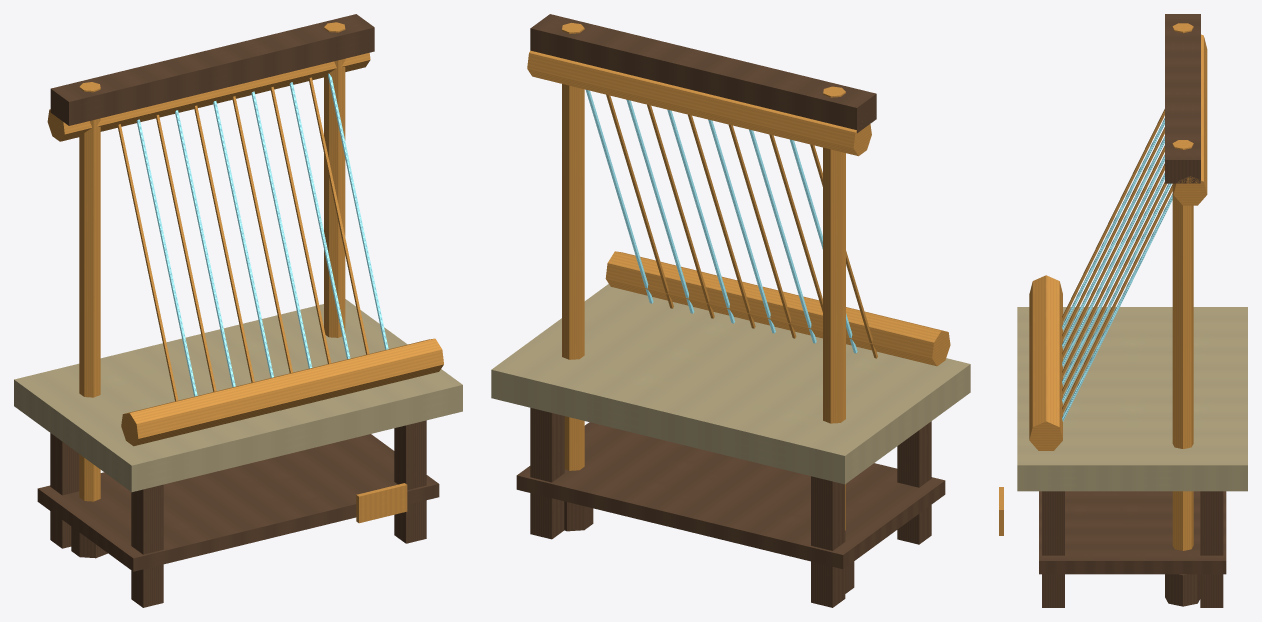
File: atlas100-s015-a01.lod1.glb
3 views of the same model, side by side, from view 1: azimuth 30°, elevation 25°; view 2: azimuth 150°, elevation 25°; view 3: azimuth 270°, elevation 25° (orthographic). The views are drawn at different scales.
Visible parts, largest first — view 1: atlas100-s015-a01:part-004, atlas100-s015-a01:part-005, atlas100-s015-a01:part-010, atlas100-s015-a01:part-024, atlas100-s015-a01:part-006, atlas100-s015-a01:part-008, atlas100-s015-a01:part-025, atlas100-s015-a01:part-001, atlas100-s015-a01:part-003, atlas100-s015-a01:part-000, atlas100-s015-a01:part-026, atlas100-s015-a01:part-019 (+12 smaller); view 2: atlas100-s015-a01:part-004, atlas100-s015-a01:part-005, atlas100-s015-a01:part-010, atlas100-s015-a01:part-024, atlas100-s015-a01:part-025, atlas100-s015-a01:part-008, atlas100-s015-a01:part-006, atlas100-s015-a01:part-002, atlas100-s015-a01:part-000, atlas100-s015-a01:part-001, atlas100-s015-a01:part-019, atlas100-s015-a01:part-022 (+11 smaller); view 3: atlas100-s015-a01:part-004, atlas100-s015-a01:part-005, atlas100-s015-a01:part-008, atlas100-s015-a01:part-010, atlas100-s015-a01:part-024, atlas100-s015-a01:part-002, atlas100-s015-a01:part-003, atlas100-s015-a01:part-025, atlas100-s015-a01:part-009, atlas100-s015-a01:part-022, atlas100-s015-a01:part-023, atlas100-s015-a01:part-021 (+9 smaller).
Part boxes in pixels (x1,y1,x2,y2): atlas100-s015-a01:part-004: (14,299,462,492); atlas100-s015-a01:part-005: (37,434,439,571); atlas100-s015-a01:part-010: (50,14,374,125); atlas100-s015-a01:part-024: (121,338,443,446); atlas100-s015-a01:part-006: (79,82,100,501); atlas100-s015-a01:part-008: (324,22,345,337); atlas100-s015-a01:part-025: (47,53,370,141); atlas100-s015-a01:part-001: (131,484,163,607); atlas100-s015-a01:part-003: (394,420,426,543); atlas100-s015-a01:part-000: (50,433,79,548); atlas100-s015-a01:part-026: (356,483,407,523); atlas100-s015-a01:part-019: (251,91,312,368); atlas100-s015-a01:part-004: (491,284,970,484); atlas100-s015-a01:part-005: (516,422,945,569); atlas100-s015-a01:part-010: (530,14,876,133); atlas100-s015-a01:part-024: (605,251,950,366); atlas100-s015-a01:part-025: (527,50,871,156); atlas100-s015-a01:part-008: (562,23,584,470); atlas100-s015-a01:part-006: (823,86,845,530); atlas100-s015-a01:part-002: (530,408,564,539); atlas100-s015-a01:part-000: (811,476,845,607); atlas100-s015-a01:part-001: (897,421,931,544); atlas100-s015-a01:part-019: (667,109,735,323); atlas100-s015-a01:part-022: (606,94,673,308); atlas100-s015-a01:part-004: (1017,307,1247,491); atlas100-s015-a01:part-005: (1039,491,1226,574); atlas100-s015-a01:part-008: (1172,140,1193,550); atlas100-s015-a01:part-010: (1165,14,1200,183); atlas100-s015-a01:part-024: (1029,275,1062,450); atlas100-s015-a01:part-002: (1200,491,1223,607); atlas100-s015-a01:part-003: (1042,491,1064,607); atlas100-s015-a01:part-025: (1173,34,1207,205); atlas100-s015-a01:part-009: (1165,574,1200,606); atlas100-s015-a01:part-022: (1062,184,1172,412); atlas100-s015-a01:part-023: (1062,194,1172,421); atlas100-s015-a01:part-021: (1062,183,1171,403).
Size of the model in its own units: 2.6 by 3.48 by 1.73.
Materials: 4 (4 with a texture image).
